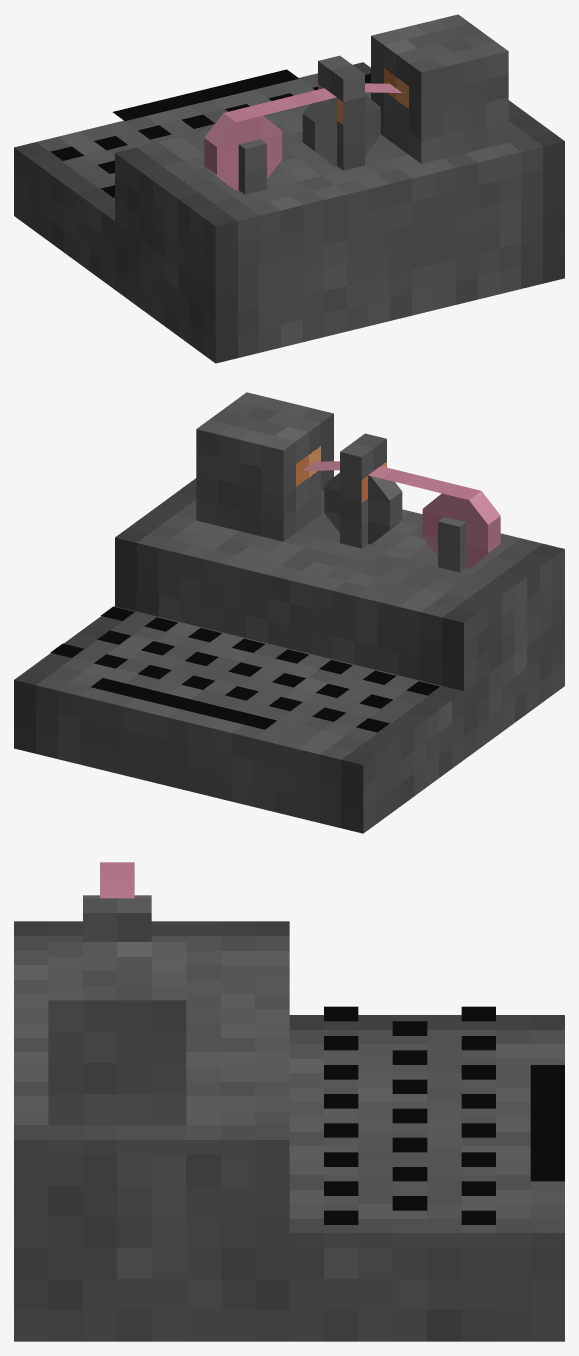
The model's file is typewriter.obj.
3 views of the same model, one above another, from view 1: azimuth 30°, elevation 25°; view 2: azimuth 150°, elevation 25°; view 3: azimuth 270°, elevation 25° (orthographic). The views are drawn at different scales.
Visible parts, largest first — view 1: base_Cube.002, output_Cube.008, Cylinder, keyboard_Plane.001, Cylinder.001_Cylinder.003, tape_Plane; view 2: base_Cube.002, output_Cube.008, keyboard_Plane.001, Cylinder, Cylinder.001_Cylinder.003, tape_Plane; view 3: base_Cube.002, output_Cube.008, keyboard_Plane.001, tape_Plane.
Part boxes in pixels (x1,y1,x2,y2): base_Cube.002: (14,55,564,363); output_Cube.008: (371,14,508,163); Cylinder: (204,113,282,194); keyboard_Plane.001: (50,69,370,197); Cylinder.001_Cylinder.003: (302,95,380,166); tape_Plane: (224,88,336,121); base_Cube.002: (14,433,564,833); output_Cube.008: (196,392,333,541); keyboard_Plane.001: (50,606,440,732); Cylinder: (422,491,500,572); Cylinder.001_Cylinder.003: (324,472,402,544); tape_Plane: (368,466,480,499); base_Cube.002: (14,898,564,1341); output_Cube.008: (48,942,186,1125); keyboard_Plane.001: (324,1006,564,1224); tape_Plane: (100,862,134,898).
Bounding box in the file's own units: 1 × 0.625 × 1.
